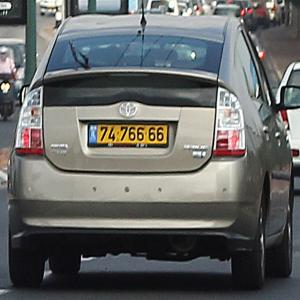Vehicle-registration-plate: (89, 126, 170, 151)
